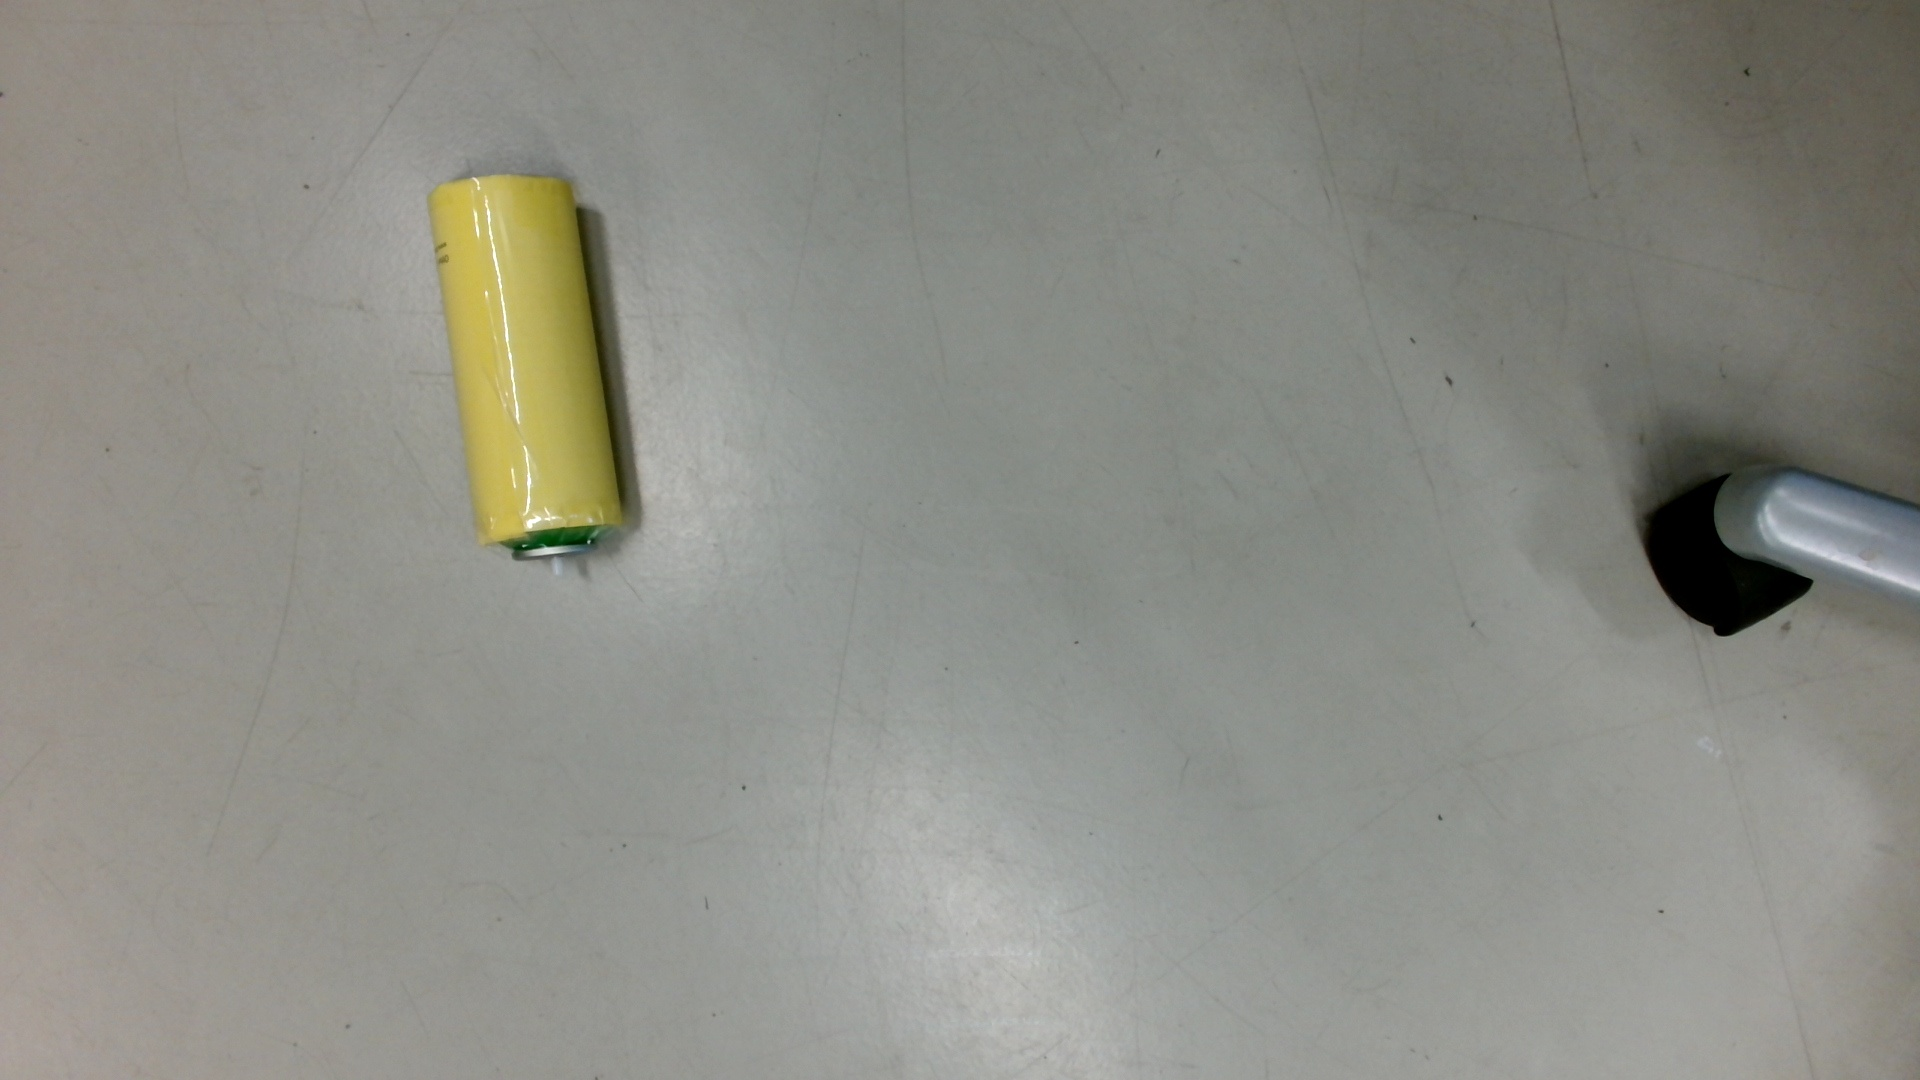Cylinder: (410, 164, 653, 589)
